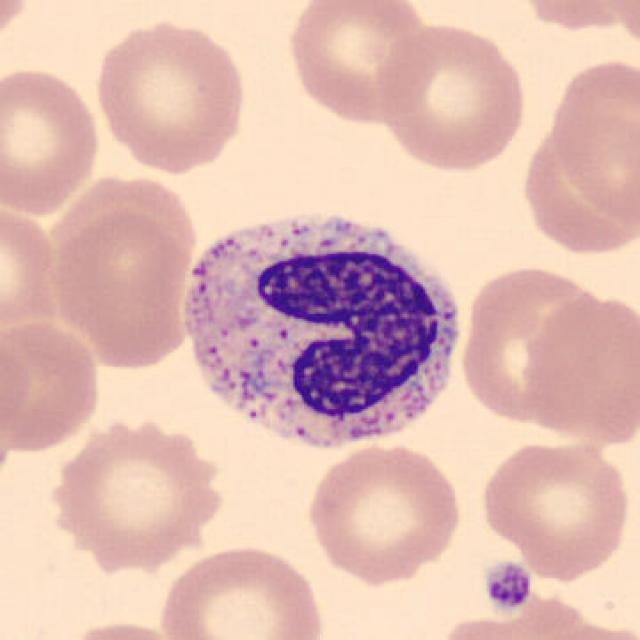Neutrophil: (169, 198, 473, 466)
Platelets: (480, 557, 535, 615)
RBC: (44, 411, 230, 568), (459, 261, 613, 432), (90, 12, 250, 176), (44, 203, 198, 370), (374, 18, 532, 174), (300, 437, 464, 587), (474, 434, 634, 580), (48, 164, 200, 316), (517, 286, 640, 451), (281, 0, 435, 127), (153, 539, 329, 640), (546, 49, 638, 233), (0, 62, 105, 218), (523, 120, 640, 258), (0, 314, 105, 456), (428, 566, 598, 640), (0, 197, 62, 335), (432, 603, 585, 640), (508, 0, 636, 37), (52, 615, 190, 640), (595, 0, 640, 58), (534, 619, 638, 640), (0, 0, 34, 60)
